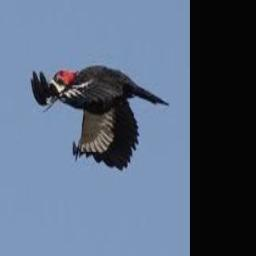Woodpecker: (31, 64, 170, 171)
